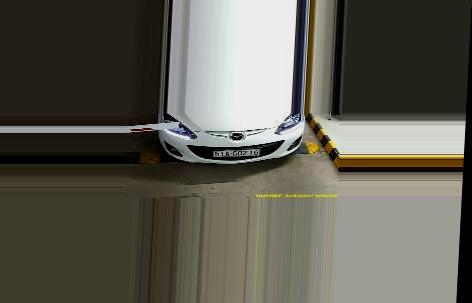License_Plate: (210, 147, 260, 158)
